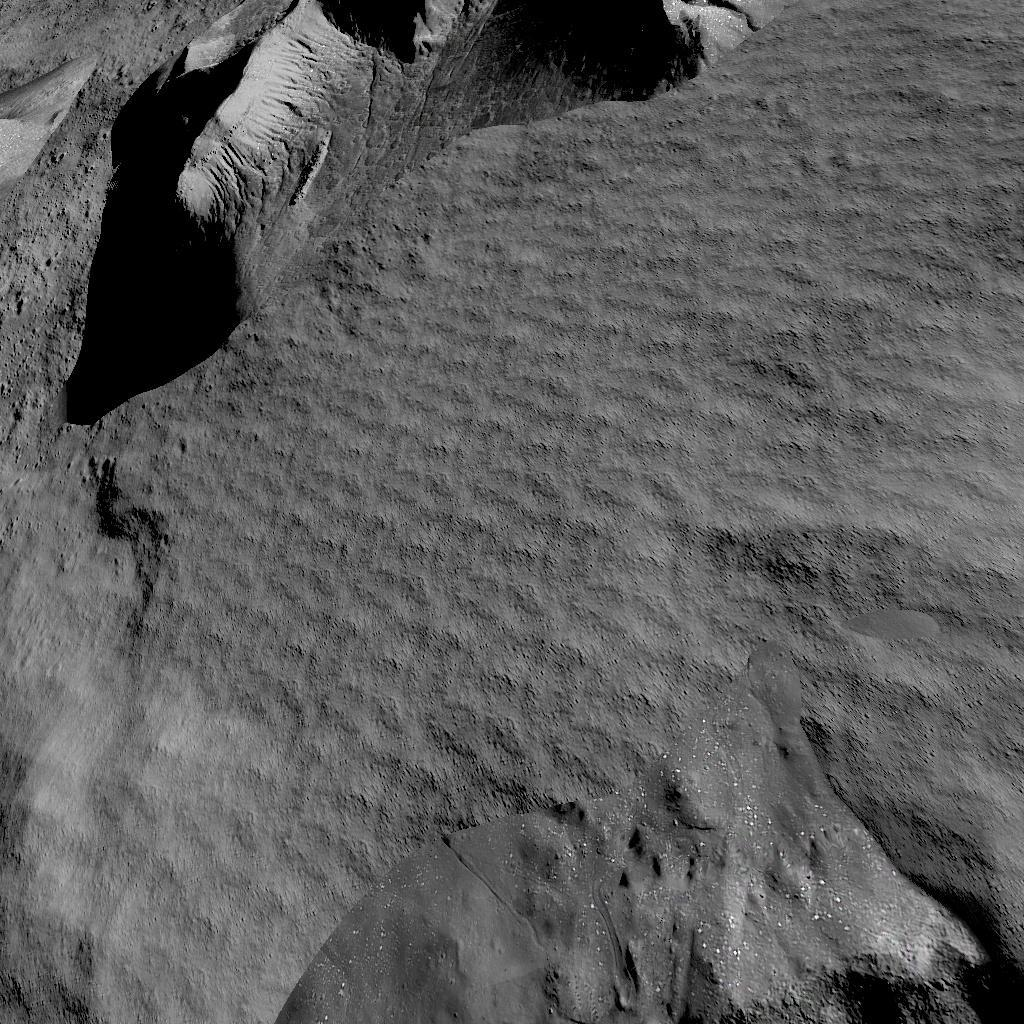Boulders: (66, 0, 800, 428)
Crater: (281, 815, 1024, 1024)
Plan surface: (0, 440, 1024, 803), (816, 2, 1024, 426), (0, 812, 266, 1024)
